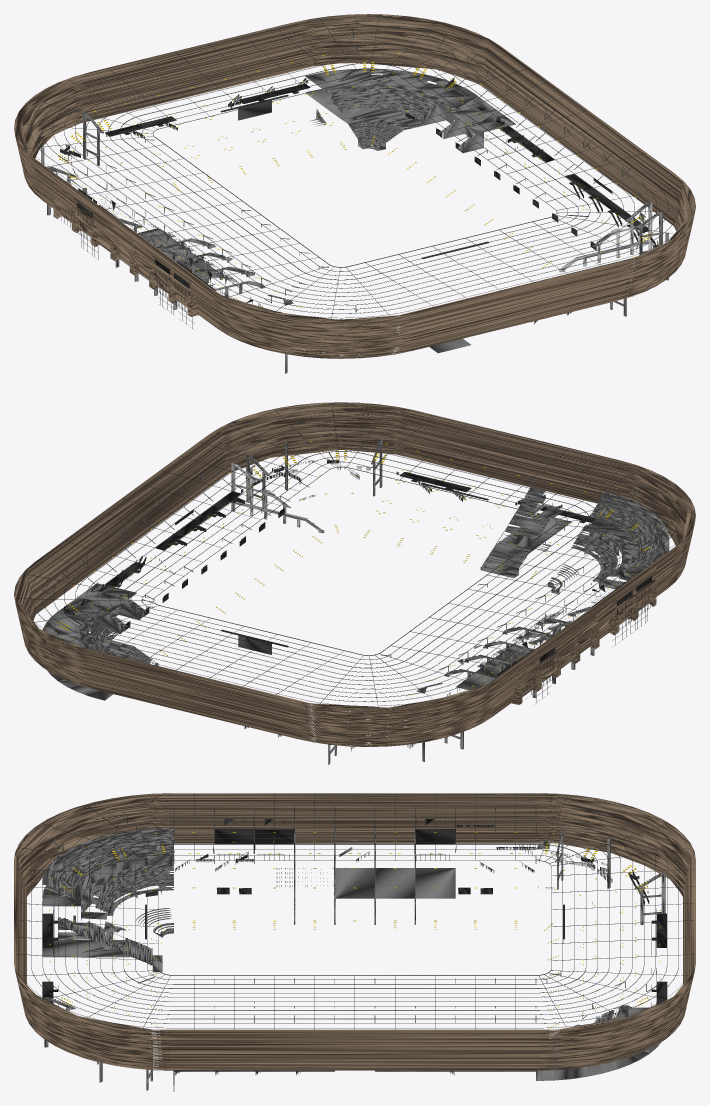
File: modern_stadium_part06.glb
The picture shows the model from 3 angles, top to bottom: view 1: azimuth 30°, elevation 25°; view 2: azimuth 150°, elevation 25°; view 3: azimuth 270°, elevation 25°; orthographic projection. The views are drawn at different scales.
Visible parts, largest first — view 1: Material3.014, Material2.028, Material2.063, Material2.017+Material2.022+Material2.023, Material2.037, Material3.008, Material3.006; view 2: Material3.014, Material2.028, Material2.063, Material2.017+Material2.022+Material2.023, Material2.037, Material3.008, Material3.006; view 3: Material3.014, Material2.028, Material2.063, Material2.017+Material2.022+Material2.023, Material3.008, Material2.037.
Part boxes in pixels (left/top/right/bottom): Material3.014: left=14, top=14, right=695, bottom=358; Material2.028: left=16, top=15, right=693, bottom=319; Material2.063: left=41, top=68, right=668, bottom=373; Material2.017+Material2.022+Material2.023: left=51, top=77, right=658, bottom=328; Material2.037: left=58, top=27, right=647, bottom=338; Material3.008: left=51, top=52, right=657, bottom=312; Material3.006: left=559, top=202, right=652, bottom=272; Material3.014: left=14, top=402, right=695, bottom=746; Material2.028: left=16, top=403, right=693, bottom=707; Material2.063: left=42, top=439, right=669, bottom=764; Material2.017+Material2.022+Material2.023: left=56, top=458, right=651, bottom=751; Material2.037: left=26, top=452, right=679, bottom=676; Material3.008: left=48, top=440, right=658, bottom=711; Material3.006: left=231, top=463, right=324, bottom=533; Material3.014: left=14, top=793, right=695, bottom=1070; Material2.028: left=15, top=794, right=694, bottom=1029; Material2.063: left=42, top=828, right=665, bottom=1090; Material2.017+Material2.022+Material2.023: left=42, top=818, right=667, bottom=1075; Material3.008: left=49, top=832, right=660, bottom=1041; Material2.037: left=36, top=806, right=657, bottom=1022.
Size of the model in its own units: 181 by 27.66 by 220.
10 materials, 6 textured.
